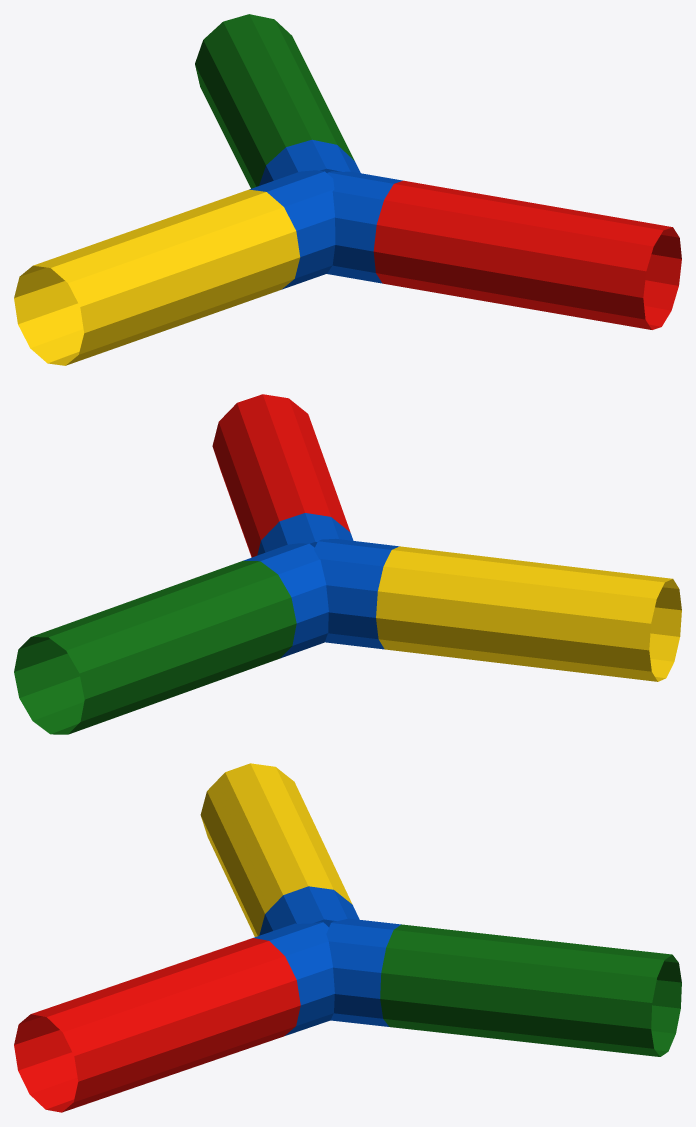
Rendered from tunnel.obj.
3 views of the same model, one above another, from view 1: azimuth 30°, elevation 25°; view 2: azimuth 150°, elevation 25°; view 3: azimuth 270°, elevation 25° (orthographic). The views are drawn at different scales.
Parts seen in each view (by area): view 1: group249784605, group948654170, group287608438; view 2: group948654170, group287608438, group249784605; view 3: group287608438, group249784605, group948654170.
Boxes of the visible parts, <box> form: group249784605: <box>327,171,681,329</box>; group948654170: <box>14,170,335,365</box>; group287608438: <box>195,14,360,188</box>; group948654170: <box>314,538,681,681</box>; group287608438: <box>14,543,328,734</box>; group249784605: <box>212,394,353,557</box>; group287608438: <box>326,918,681,1056</box>; group249784605: <box>14,922,334,1112</box>; group948654170: <box>200,763,359,936</box>.
Size of the model in its own units: 0.4855 by 0.0888 by 0.5172.
